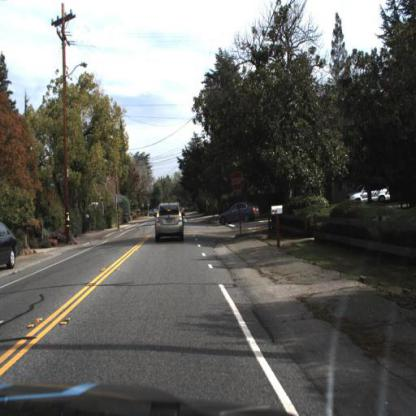car: (345, 179, 394, 205), (156, 196, 184, 240), (349, 179, 392, 207), (219, 200, 256, 228)
